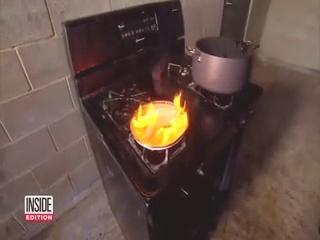Fire: (129, 79, 196, 152)
